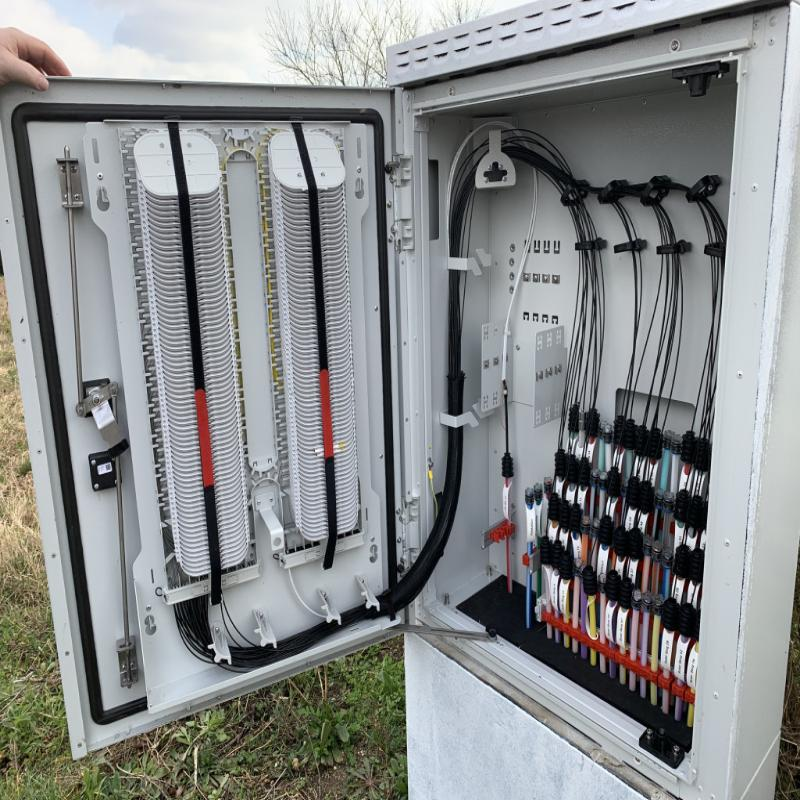NT-Gehause: (0, 1, 800, 800)
Spleiskassetten: (116, 123, 256, 592), (261, 124, 362, 546)
